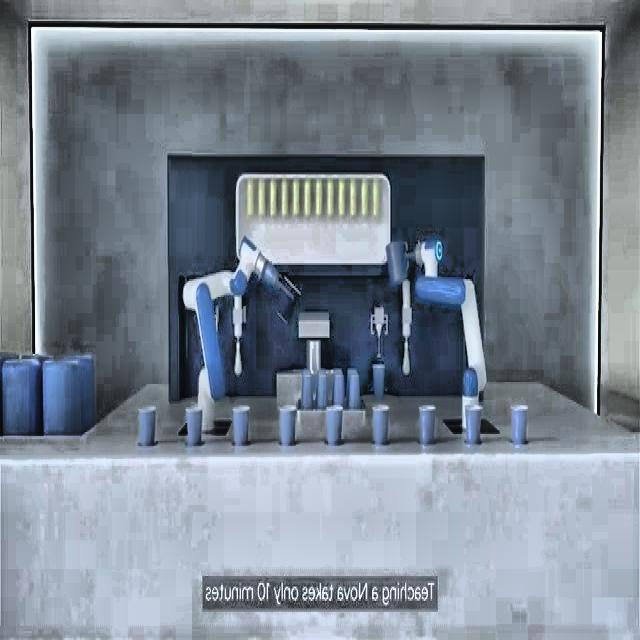robot: (182, 233, 302, 432), (386, 236, 489, 402)
